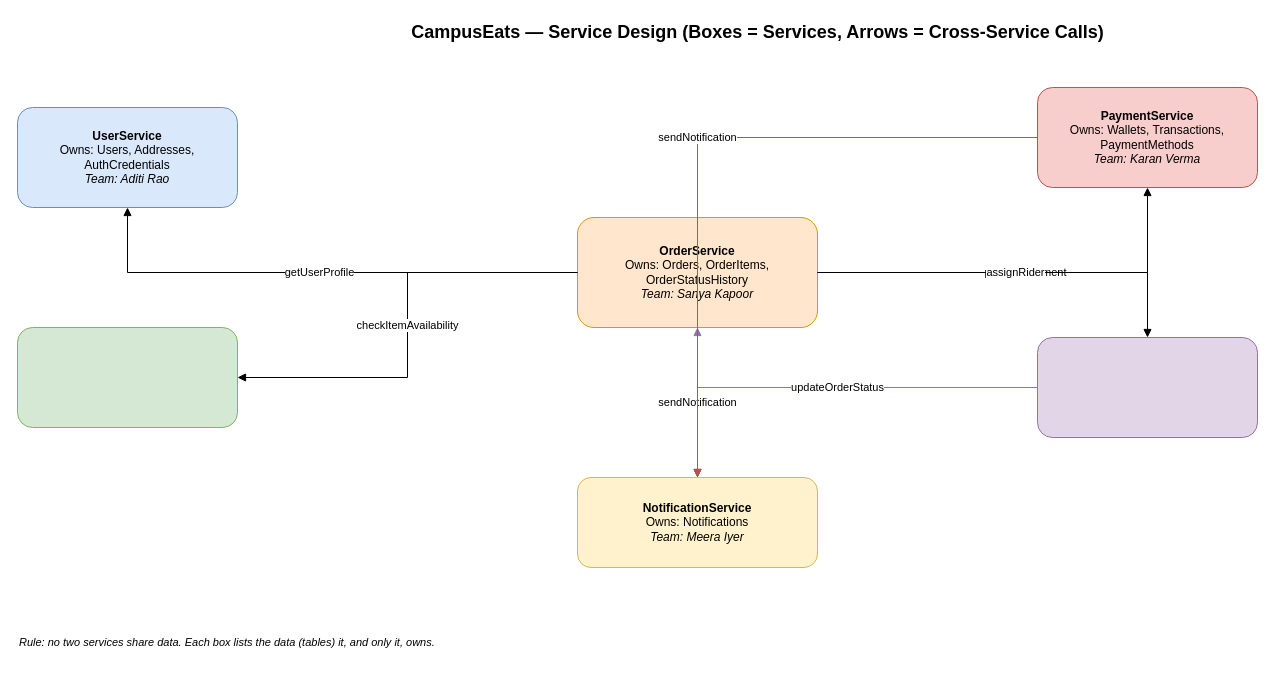
This 1275x674 diagram has some shape labels left out. The shapes that lost their labels are listed below. From the top down, each one's box as (x1, y1, x2, y2) in pixels, then its label:
(16, 326, 238, 428): CatalogueService Owns: Vendors, MenuItems, Categories Team: Rohan Mehta
(1036, 336, 1258, 438): DeliveryService Owns: Riders, Deliveries Team: Ishaan Nair
